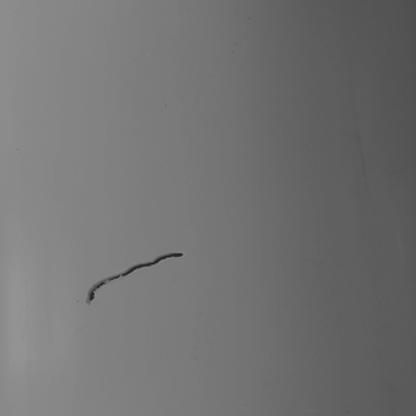fengxi: (88, 252, 183, 302)
